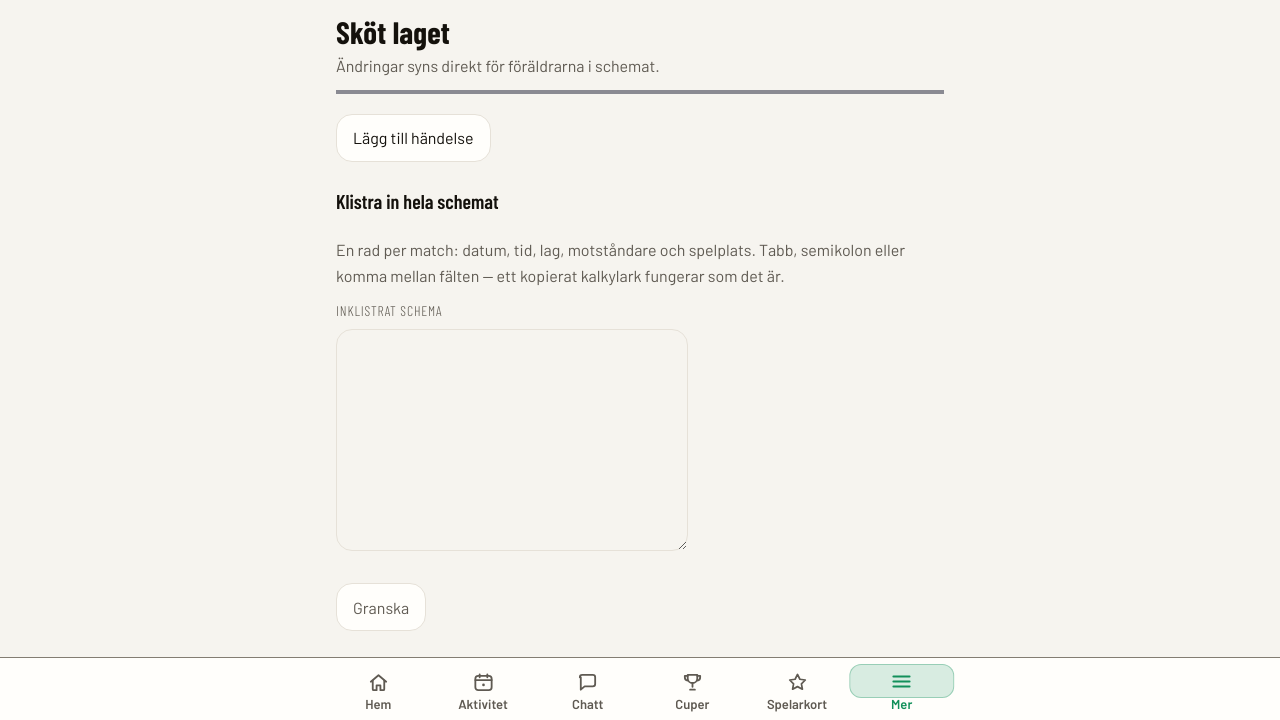
hemma eller annan plats › visar klubbens plan när hemma är valt
The width and height of the screenshot is (1280, 720).
Click the button "Lägg till händelse": (413, 138) 336,114 -> 490,162
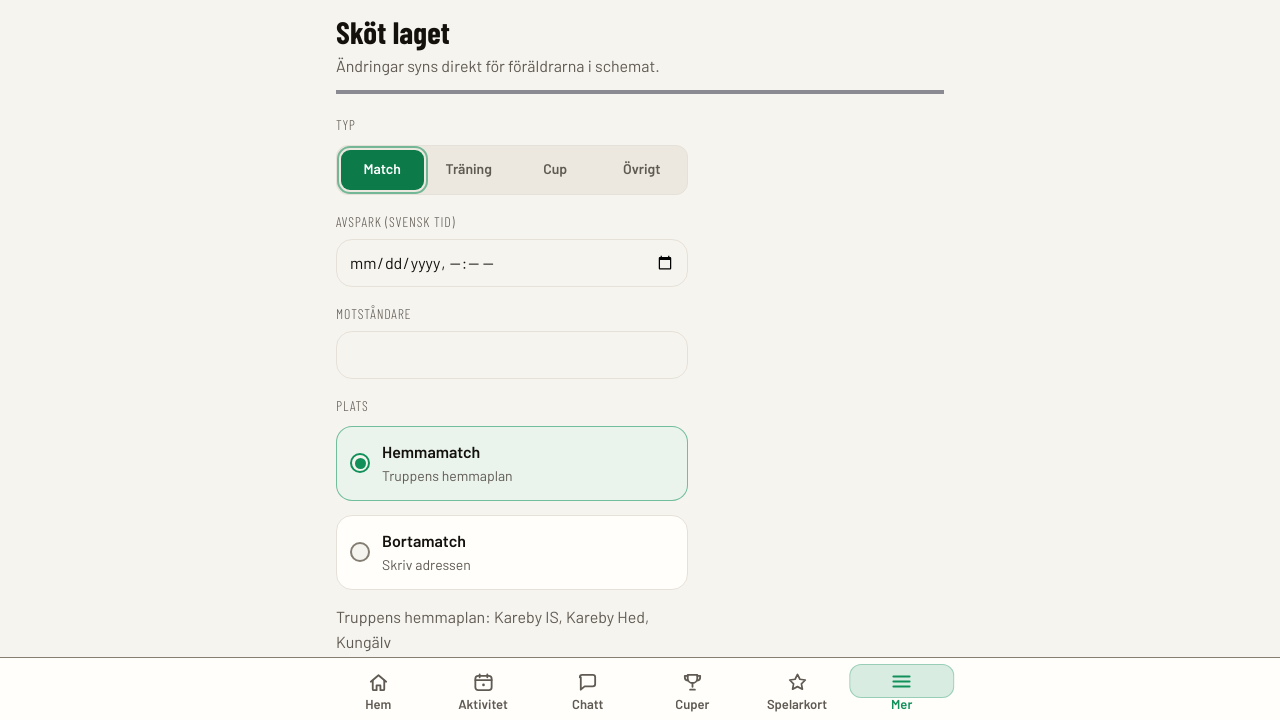
Check: the text "Truppens hemmaplan: Kareby IS, Kareby Hed, Kungälv" is shown, box 336,604 -> 688,655
